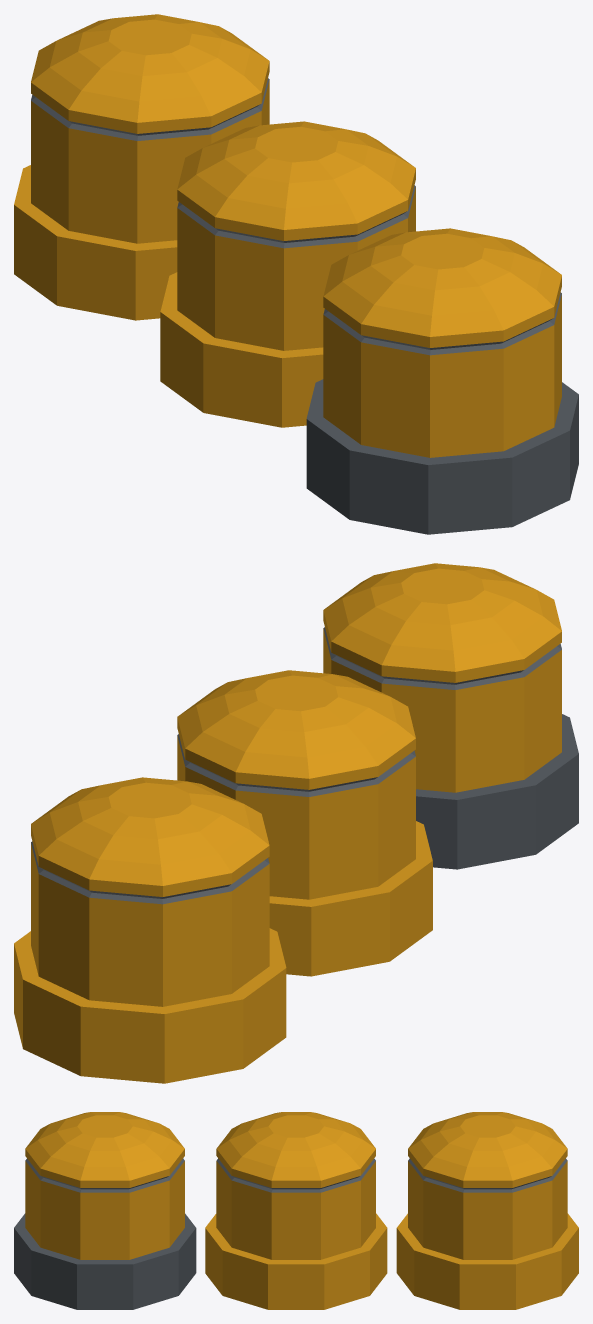
The model's file is Mothership_01_Vessels_Yellow.fbx.
3 views of the same model, one above another, from view 1: azimuth 30°, elevation 25°; view 2: azimuth 150°, elevation 25°; view 3: azimuth 270°, elevation 25° (orthographic). The views are drawn at different scales.
Parts seen in each view (by area): view 1: Mothership_01_Vessels_Yellow; view 2: Mothership_01_Vessels_Yellow; view 3: Mothership_01_Vessels_Yellow.
Boxes of the visible parts, bbox=[...] form: Mothership_01_Vessels_Yellow: bbox=[14, 14, 578, 534]; Mothership_01_Vessels_Yellow: bbox=[14, 563, 578, 1083]; Mothership_01_Vessels_Yellow: bbox=[14, 1112, 578, 1309].
Size of the model in its own units: 733 by 686 by 2391.
Materials: 1 (1 with a texture image).
